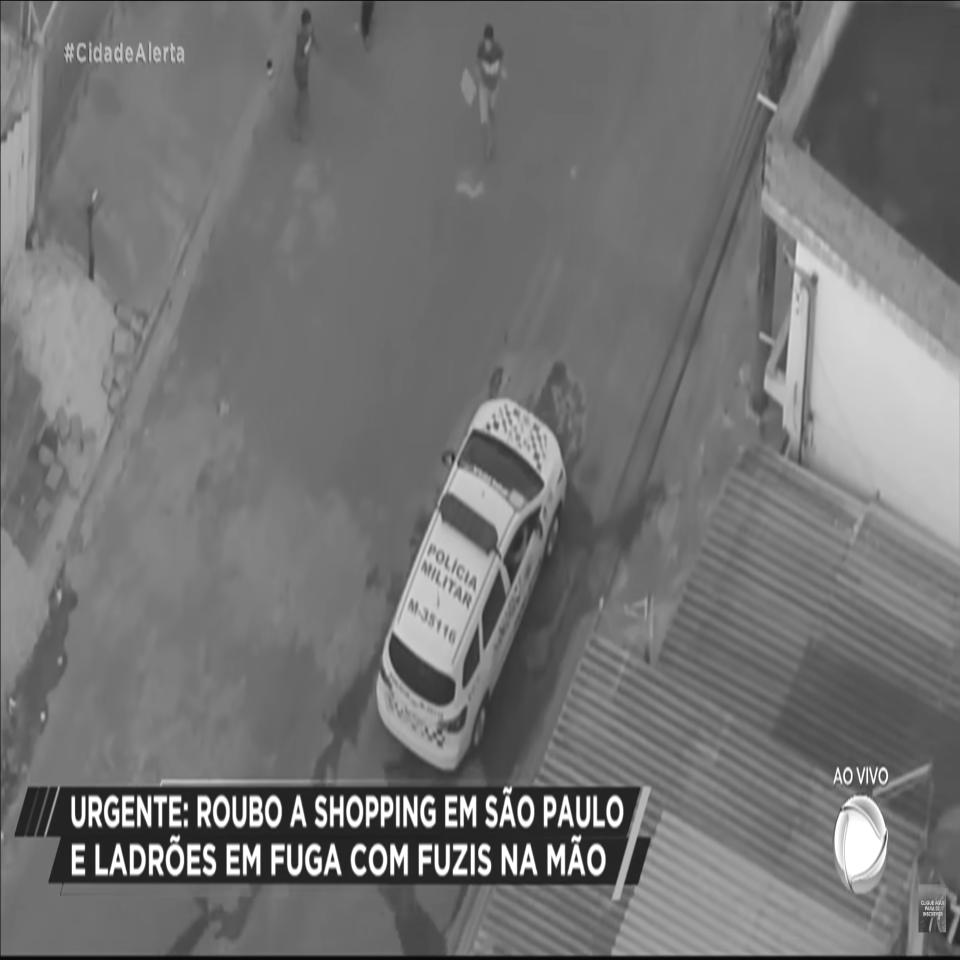viatura: (379, 393, 570, 778)
